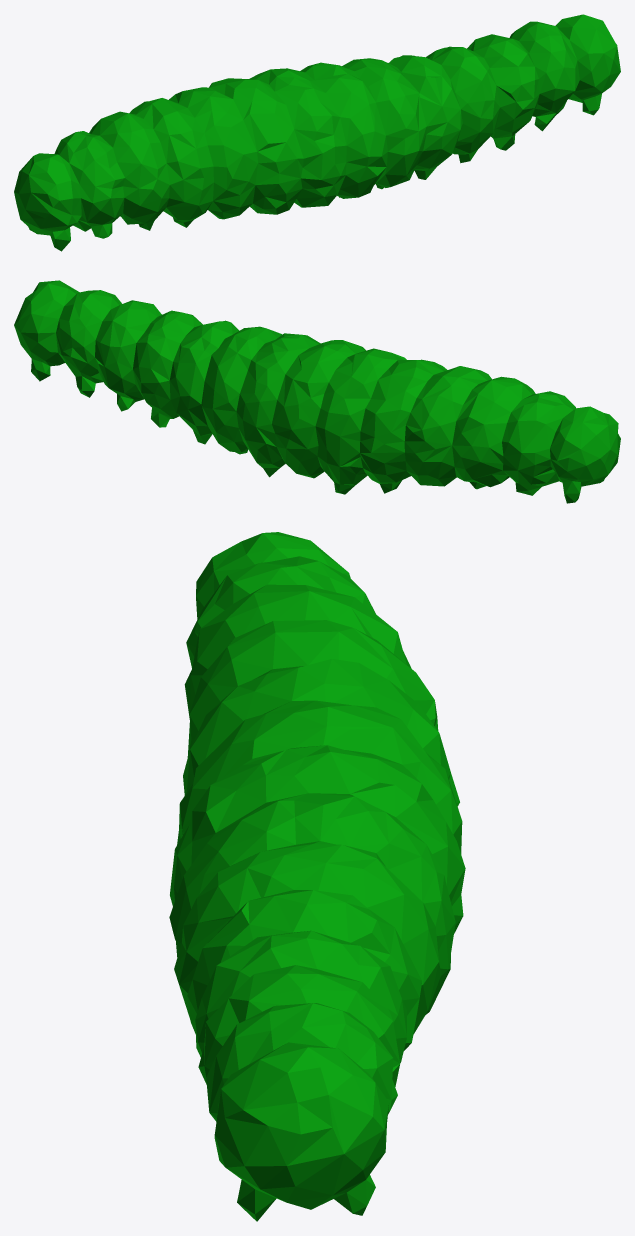
The model's file is Maggot.fbx.
3 views of the same model, one above another, from view 1: azimuth 30°, elevation 25°; view 2: azimuth 150°, elevation 25°; view 3: azimuth 270°, elevation 25° (orthographic). The views are drawn at different scales.
Parts seen in each view (by area): view 1: SM_Maggot.mo; view 2: SM_Maggot.mo; view 3: SM_Maggot.mo.
Part boxes in pixels (x1,y1,x2,y2): SM_Maggot.mo: [14, 14, 620, 251]; SM_Maggot.mo: [14, 280, 620, 503]; SM_Maggot.mo: [169, 532, 465, 1221].
Bounding box in the file's own units: 111 × 23.48 × 24.38.
